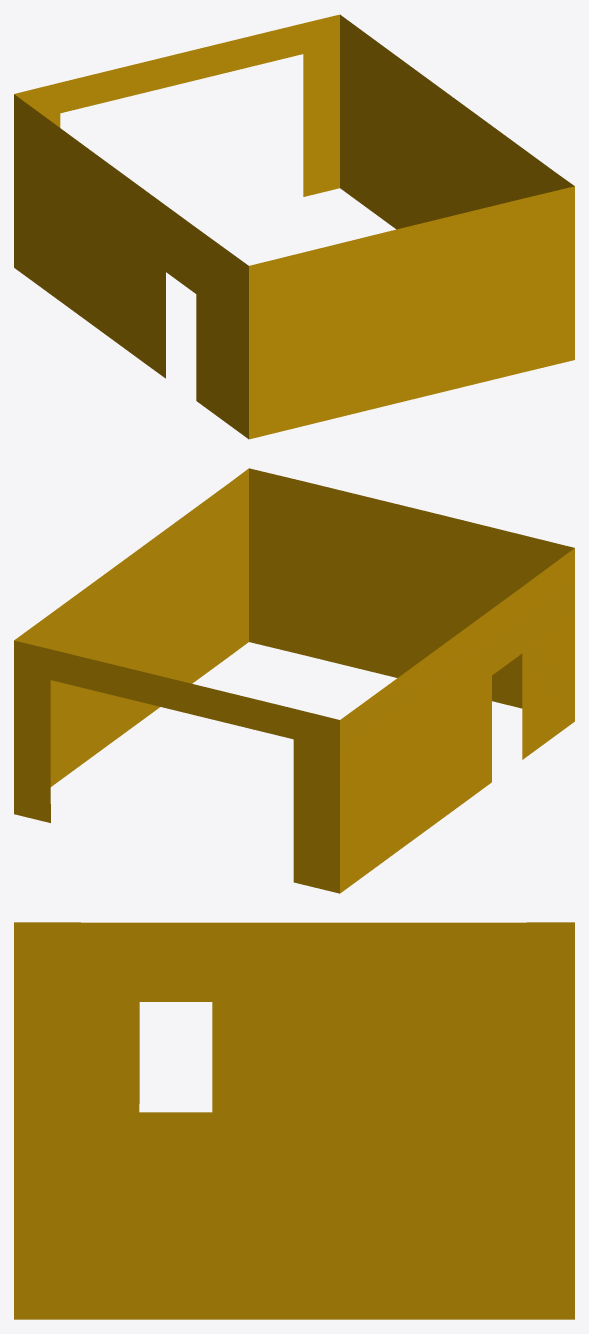
File: Garage_WP_01.fbx
3 renders of one model, top to bottom at view 1: azimuth 30°, elevation 25°; view 2: azimuth 150°, elevation 25°; view 3: azimuth 270°, elevation 25°, orthographic. The views are drawn at different scales.
Visible parts, largest first — view 1: Garage_WP_01; view 2: Garage_WP_01; view 3: Garage_WP_01.
Boxes of the visible parts, <box> form: Garage_WP_01: <box>14,14,574,439</box>; Garage_WP_01: <box>14,468,574,893</box>; Garage_WP_01: <box>14,922,574,1319</box>.
Bounding box in the file's own units: 715 × 365 × 892.
